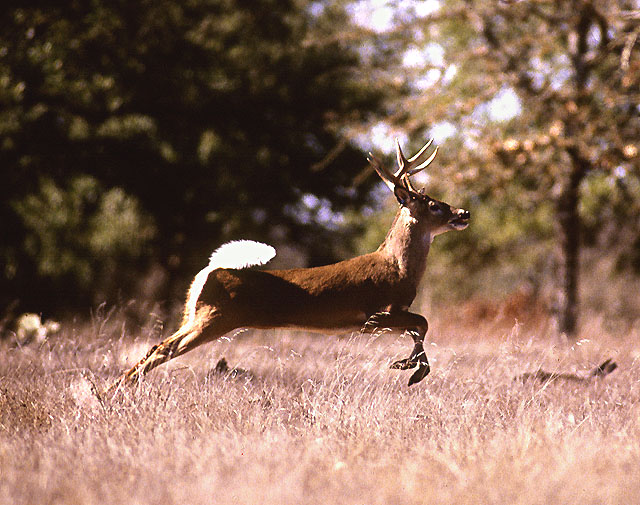Deer: (106, 136, 473, 403)
